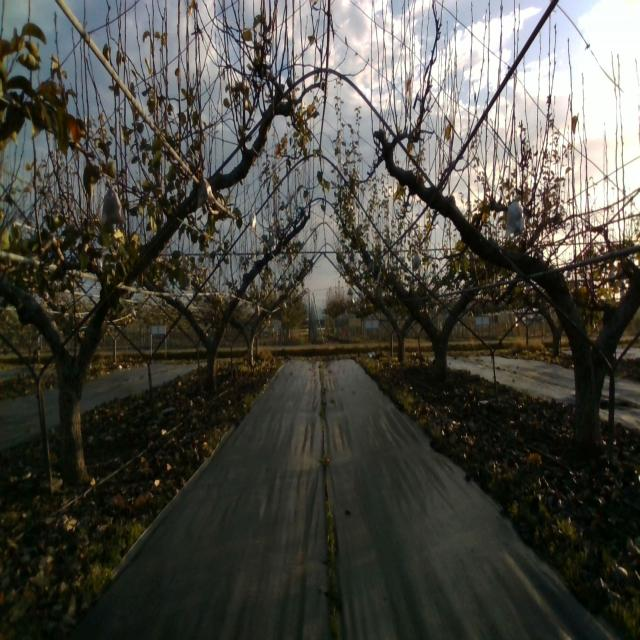pearbags: (100, 179, 126, 230), (505, 193, 526, 237), (196, 174, 217, 210), (411, 252, 421, 272)
